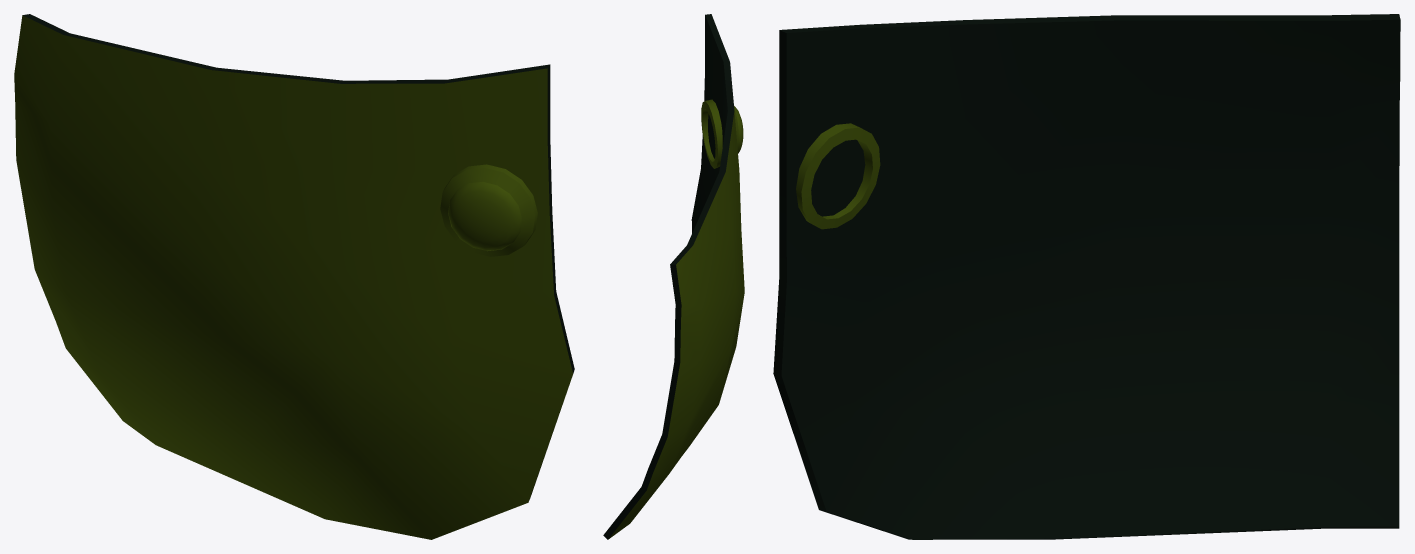
File: mc_side_left_ext_front_lod01.FBX
The picture shows the model from 3 angles, left to right: view 1: azimuth 30°, elevation 25°; view 2: azimuth 150°, elevation 25°; view 3: azimuth 270°, elevation 25°; orthographic projection. The views are drawn at different scales.
Visible parts, largest first — view 1: mc_side_right_ext_front; view 2: mc_side_right_ext_front; view 3: mc_side_right_ext_front.
Boxes of the visible parts, x1=… form: mc_side_right_ext_front: x1=14, y1=14, x2=574, y2=539; mc_side_right_ext_front: x1=603, y1=14, x2=744, y2=539; mc_side_right_ext_front: x1=773, y1=14, x2=1400, y2=539.
Bounding box in the file's own units: 19.85 × 36.92 × 36.83.
